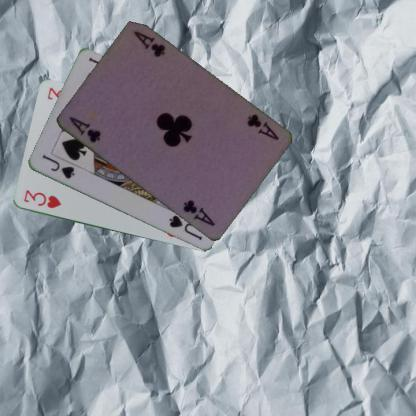3h: (21, 187, 62, 210)
Ac: (244, 110, 280, 142), (66, 114, 102, 144)
Js: (39, 152, 76, 180)
